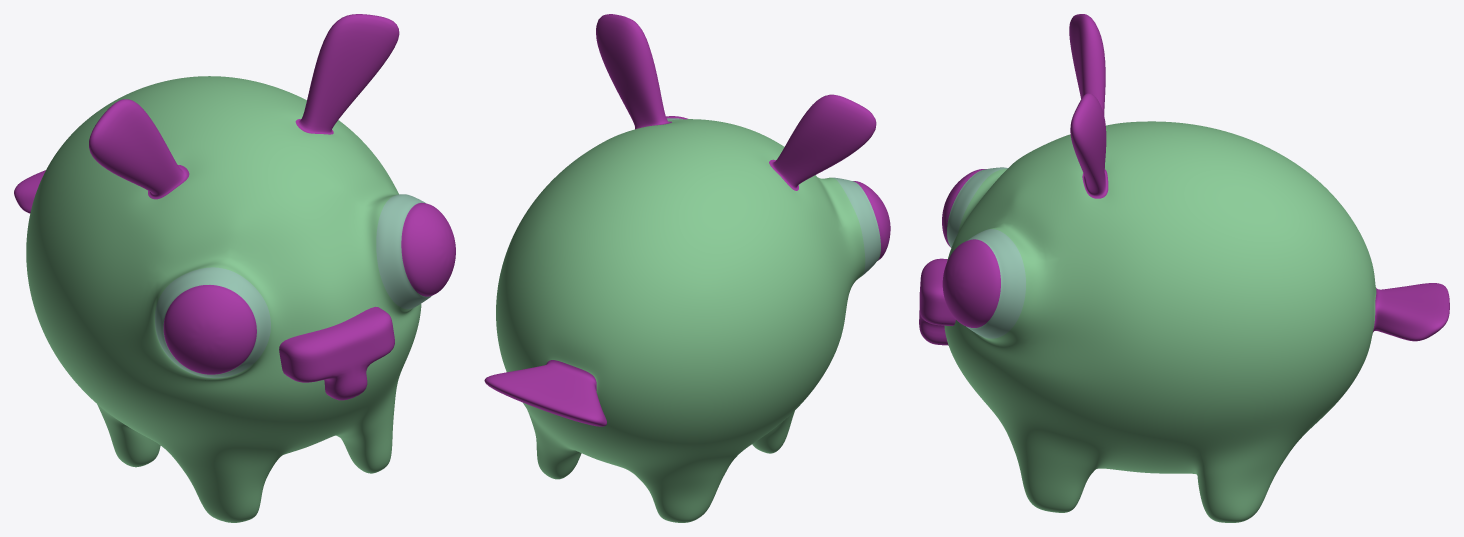
The model's file is NOKI.gltf.
The picture shows the model from 3 angles, left to right: view 1: azimuth 30°, elevation 25°; view 2: azimuth 150°, elevation 25°; view 3: azimuth 270°, elevation 25°; orthographic projection. The views are drawn at different scales.
Visible parts, largest first — view 1: Roundcube.002, Cube; view 2: Roundcube.002; view 3: Roundcube.002, Cube.
Boxes of the visible parts, bbox=[...] form: Roundcube.002: bbox=[14, 14, 455, 522]; Cube: bbox=[279, 306, 394, 400]; Roundcube.002: bbox=[484, 14, 890, 522]; Roundcube.002: bbox=[942, 14, 1449, 522]; Cube: bbox=[919, 258, 955, 345].
Bounding box in the file's own units: 3.28 × 4.29 × 4.68.
